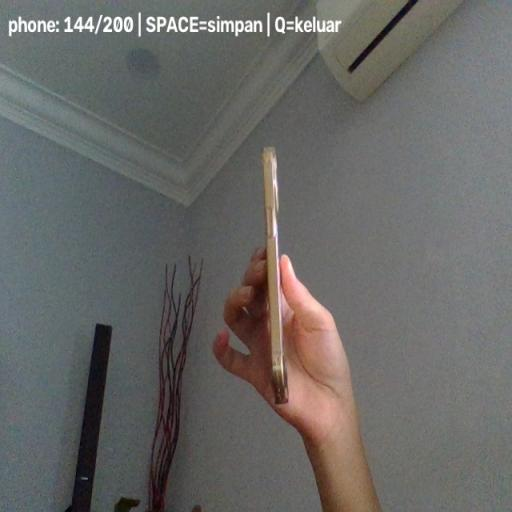Phone: (262, 146, 290, 405)
